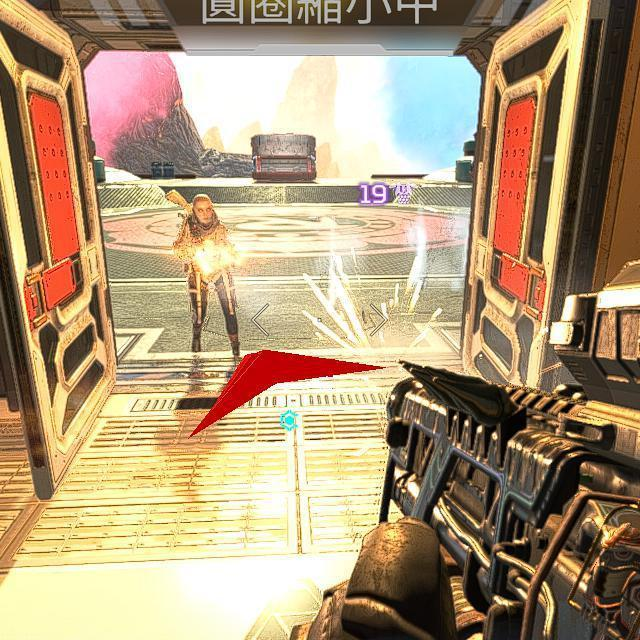avatar: (166, 189, 241, 358)
